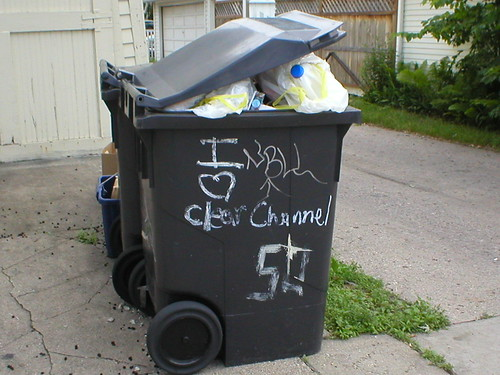graffiti: (188, 138, 333, 294)
trash can: (114, 29, 349, 368)
